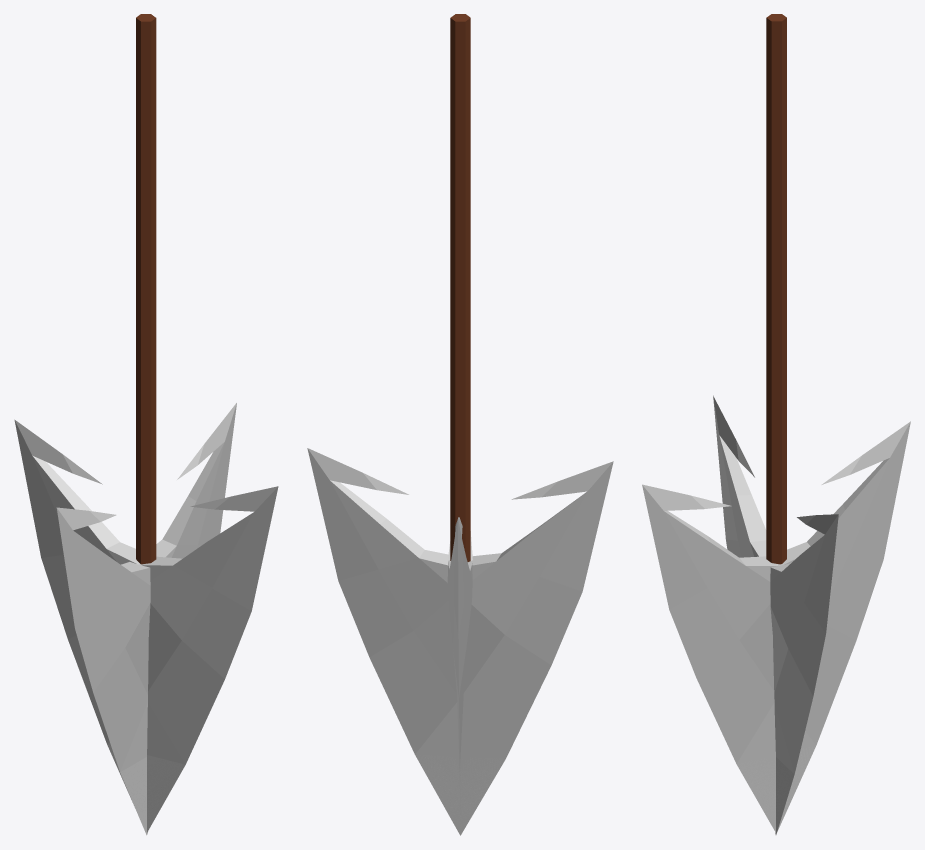
The model's file is harpoon.glb.
3 views of the same model, side by side, from view 1: azimuth 30°, elevation 25°; view 2: azimuth 150°, elevation 25°; view 3: azimuth 270°, elevation 25° (orthographic).
Visible parts, largest first — view 1: Harpoon; view 2: Harpoon; view 3: Harpoon.
Part boxes in pixels (bbox=[...]): Harpoon: bbox=[14, 14, 278, 835]; Harpoon: bbox=[307, 14, 613, 835]; Harpoon: bbox=[642, 14, 910, 834].
Size of the model in its own units: 0.1772 by 0.569 by 0.1696.
